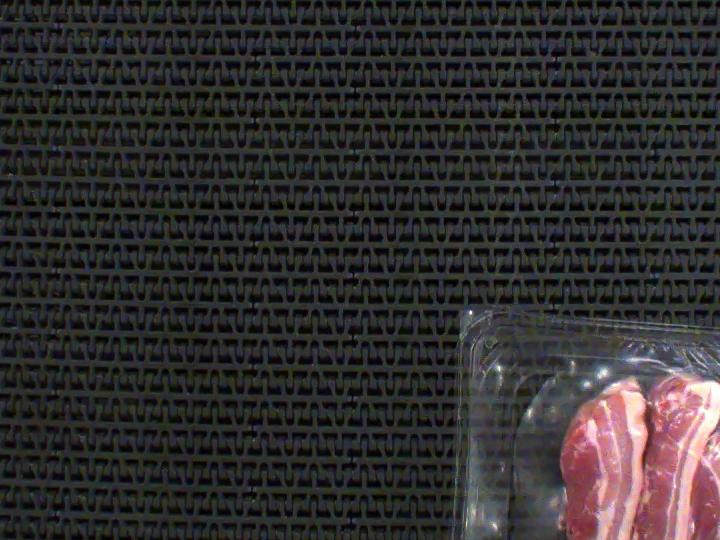unsealed: (453, 310, 720, 540)
